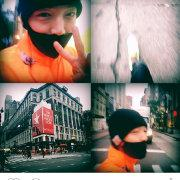WRONG: (28, 6, 81, 59), (121, 121, 152, 159)
